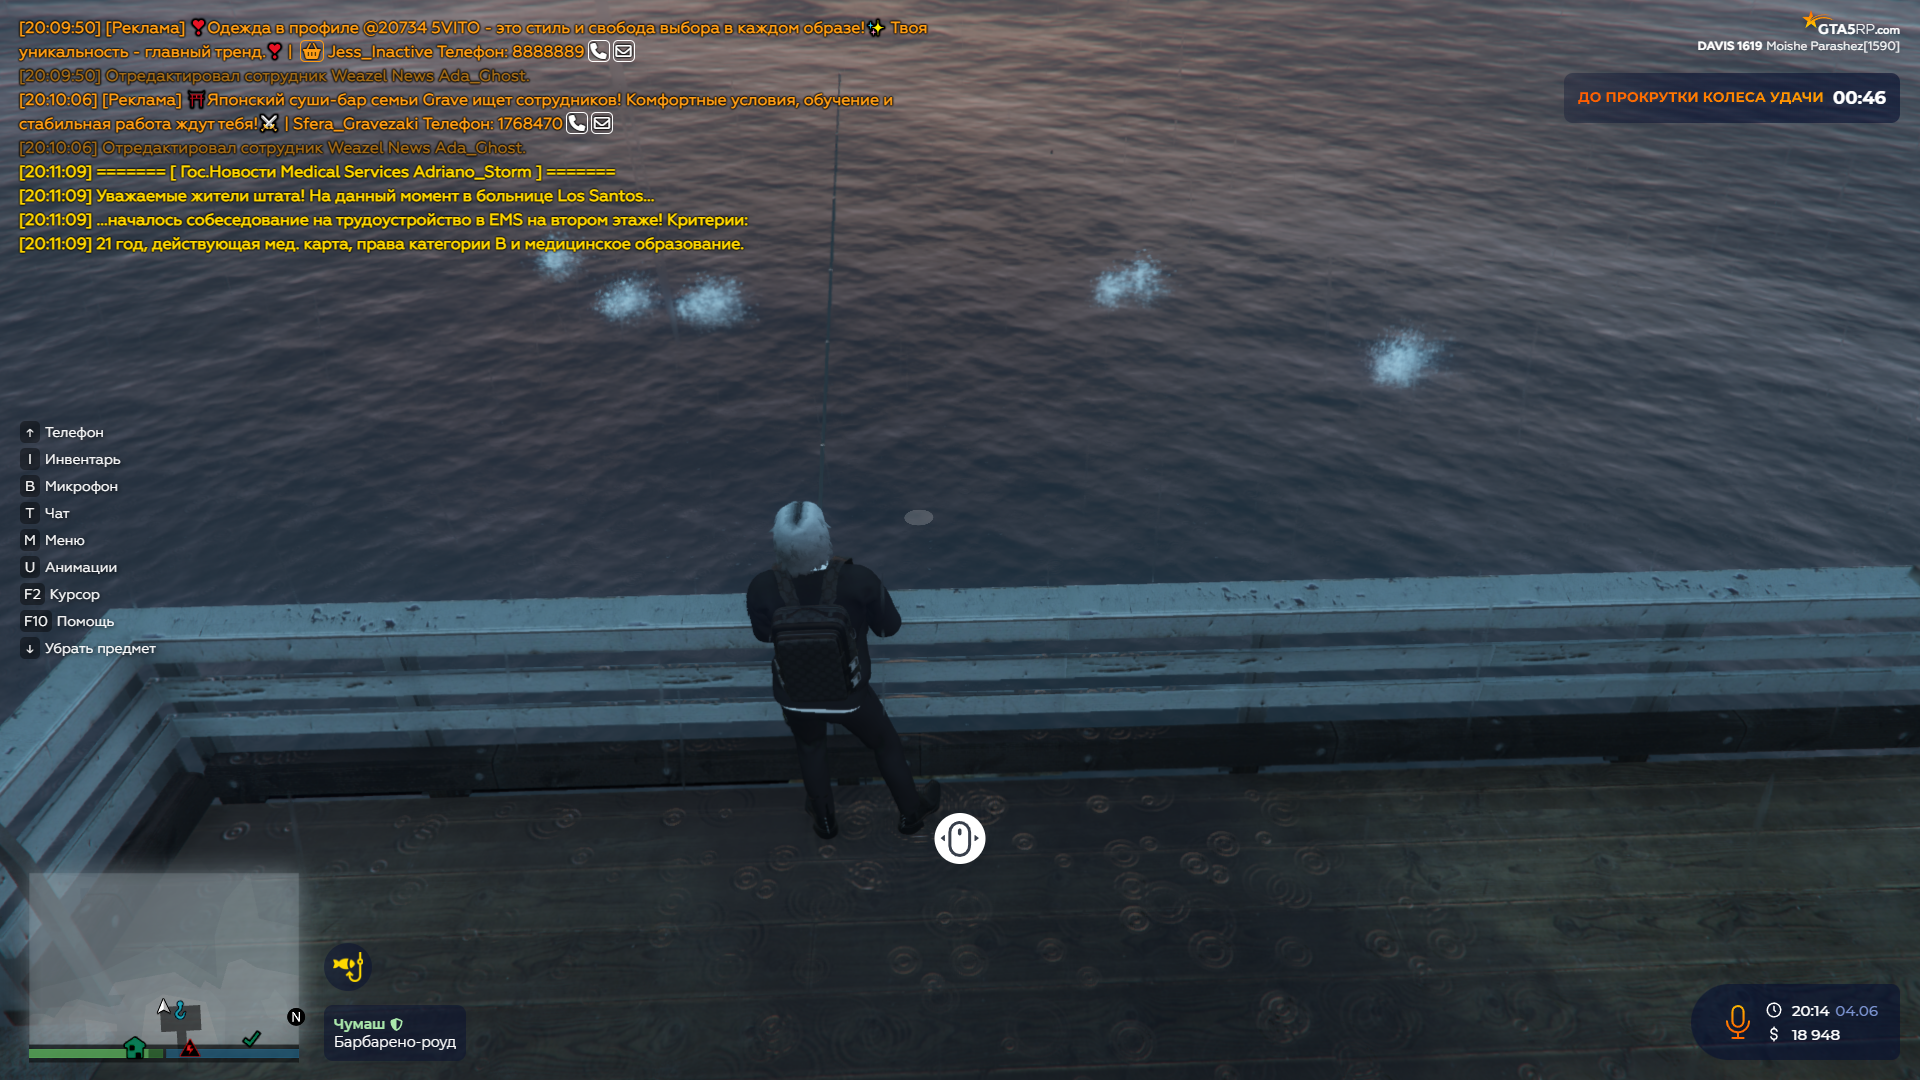circle: (899, 506, 938, 527)
